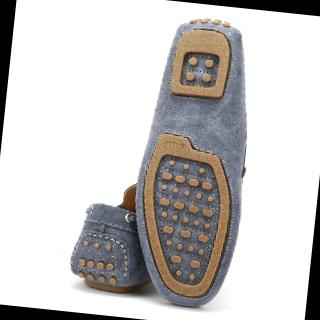loafers: (61, 0, 268, 317)
